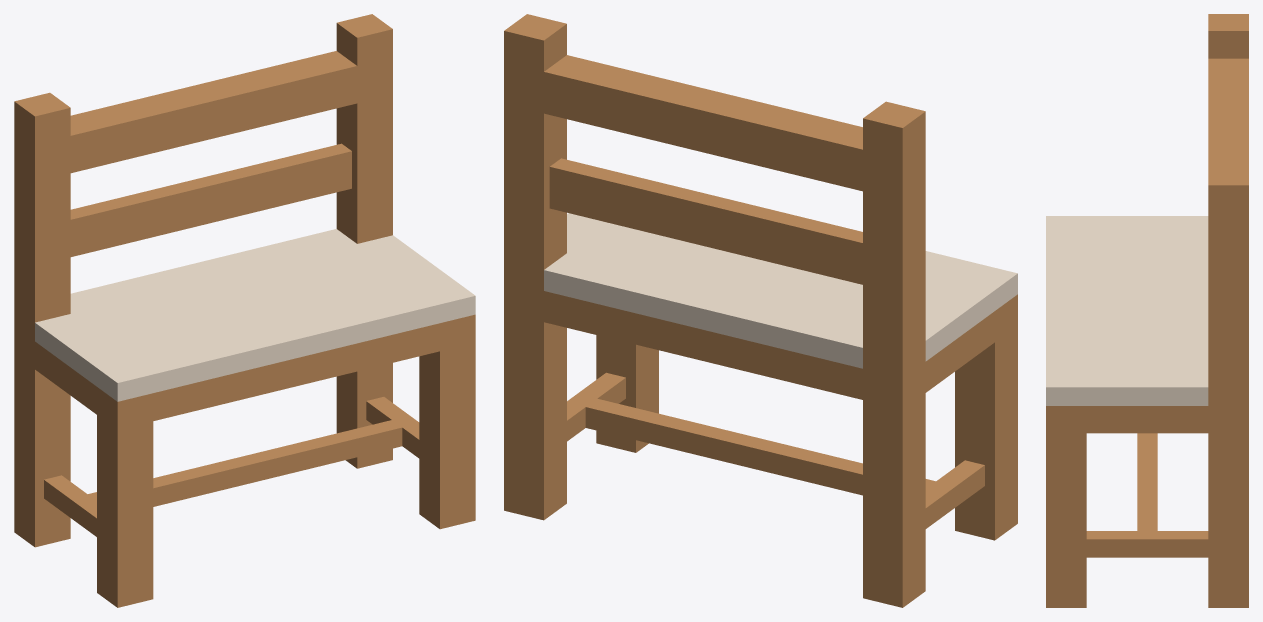
Rendered from kitBenchCushion.glb.
The picture shows the model from 3 angles, left to right: view 1: azimuth 30°, elevation 25°; view 2: azimuth 150°, elevation 25°; view 3: azimuth 270°, elevation 25°; orthographic projection. The views are drawn at different scales.
Parts seen in each view (by area): view 1: kitBenchCushion_wood, kitBenchCushion_fabric; view 2: kitBenchCushion_wood, kitBenchCushion_fabric; view 3: kitBenchCushion_wood, kitBenchCushion_fabric.
Part boxes in pixels (left/top/right/bottom): kitBenchCushion_wood: left=14, top=14, right=475, bottom=607; kitBenchCushion_fabric: left=35, top=229, right=475, bottom=401; kitBenchCushion_wood: left=504, top=14, right=1017, bottom=607; kitBenchCushion_fabric: left=544, top=213, right=1017, bottom=368; kitBenchCushion_wood: left=1046, top=14, right=1248, bottom=607; kitBenchCushion_fabric: left=1046, top=216, right=1208, bottom=405.
Size of the model in its own units: 0.8 by 0.92 by 0.4.
